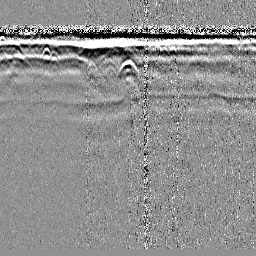cavity: (117, 56, 139, 76)
